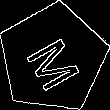M_NE: (20, 26, 86, 91)
